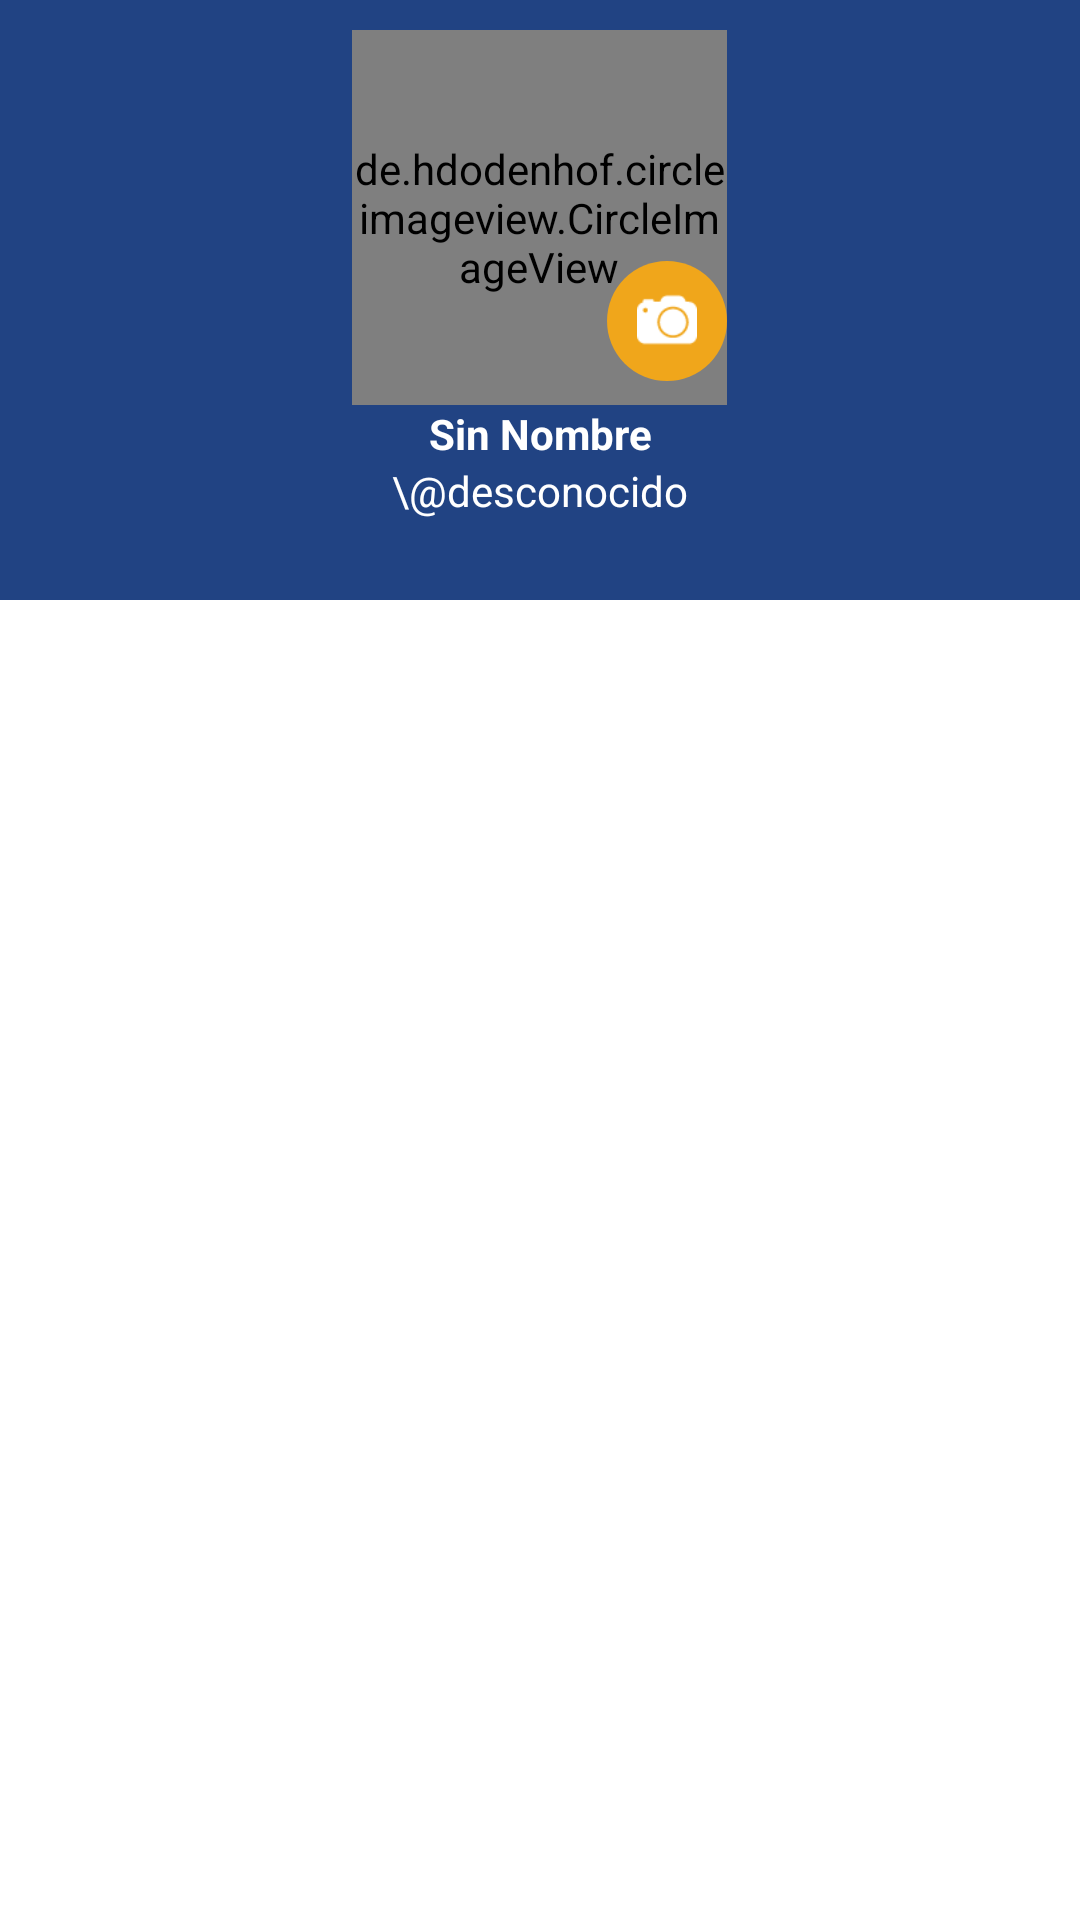

Where icons sit on this 1080×1920 app screen, as (x1, y1, x2, y2):
camera: (637, 295, 697, 345)
